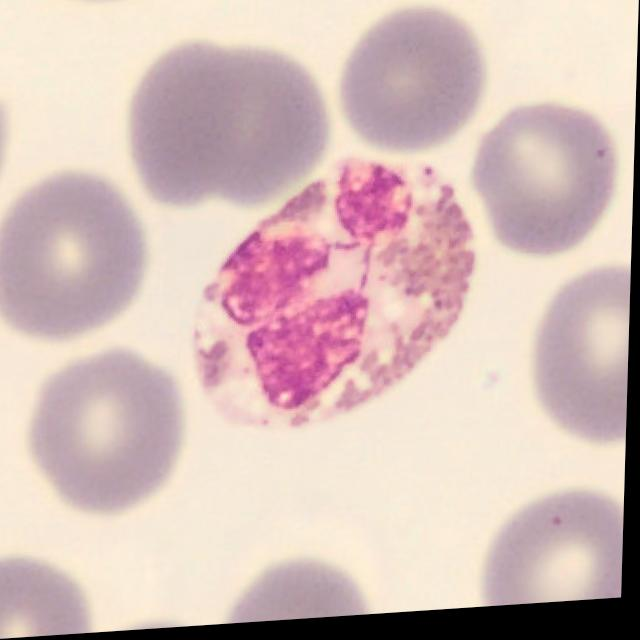Eosinofilo: (194, 160, 478, 434)
